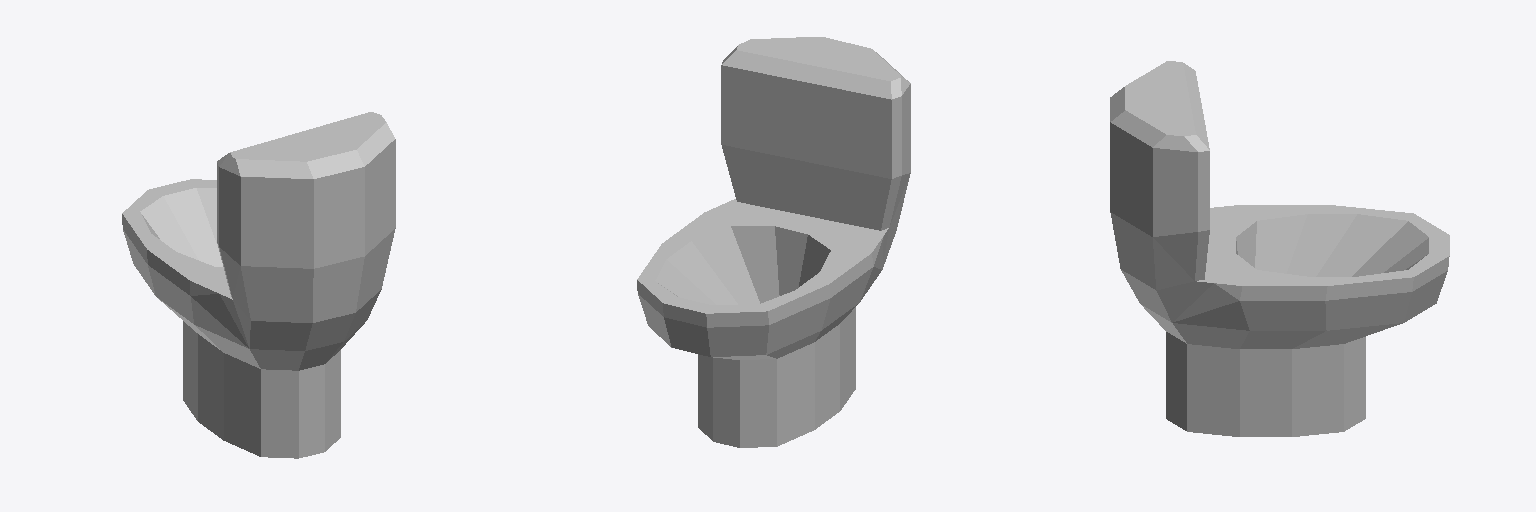
Rendered from inodoro.obj.
3 renders of one model, left to right at view 1: azimuth 30°, elevation 25°; view 2: azimuth 150°, elevation 25°; view 3: azimuth 270°, elevation 25°, orthographic.
Visible parts, largest first — view 1: Baño; view 2: Baño; view 3: Baño.
Part boxes in pixels (x1,y1,x2,y2): Baño: (122,112,395,458); Baño: (637,37,910,447); Baño: (1110,61,1449,436).
Size of the model in its own units: 1.02 by 1.79 by 1.75.